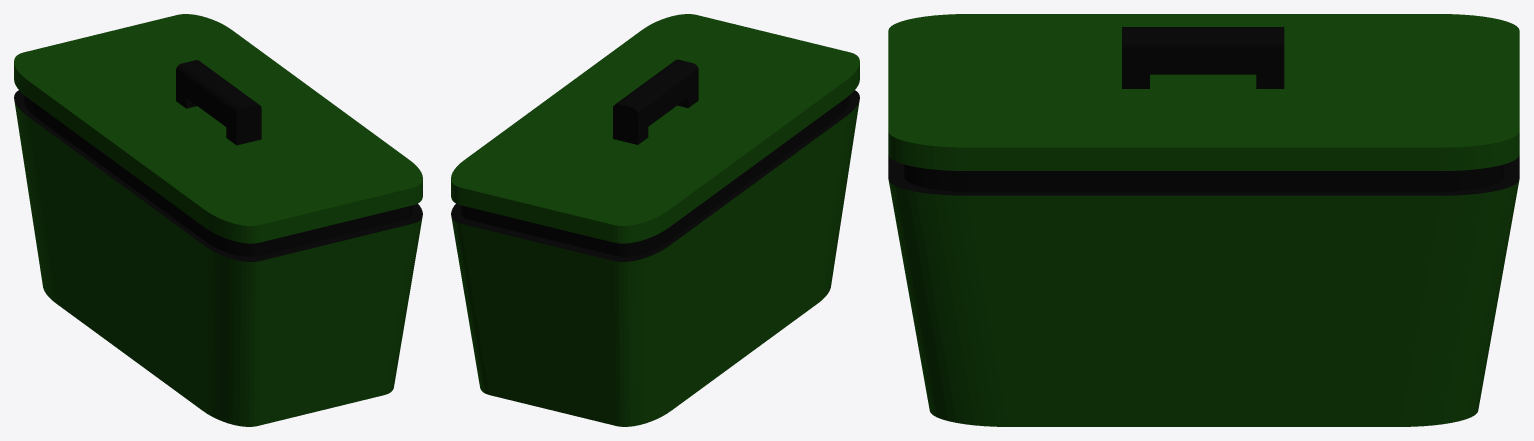
File: ammo.box.fbx
The picture shows the model from 3 angles, left to right: view 1: azimuth 30°, elevation 25°; view 2: azimuth 150°, elevation 25°; view 3: azimuth 270°, elevation 25°; orthographic projection. The views are drawn at different scales.
Parts seen in each view (by area): view 1: Cube, Cube.001; view 2: Cube, Cube.001; view 3: Cube, Cube.001.
Boxes of the visible parts, <box> form: Cube: <box>14,14,422,426</box>; Cube.001: <box>176,60,261,145</box>; Cube: <box>451,14,859,426</box>; Cube.001: <box>613,59,698,144</box>; Cube: <box>888,14,1519,426</box>; Cube.001: <box>1122,27,1284,88</box>.
Size of the model in its own units: 100 by 200 by 118.
